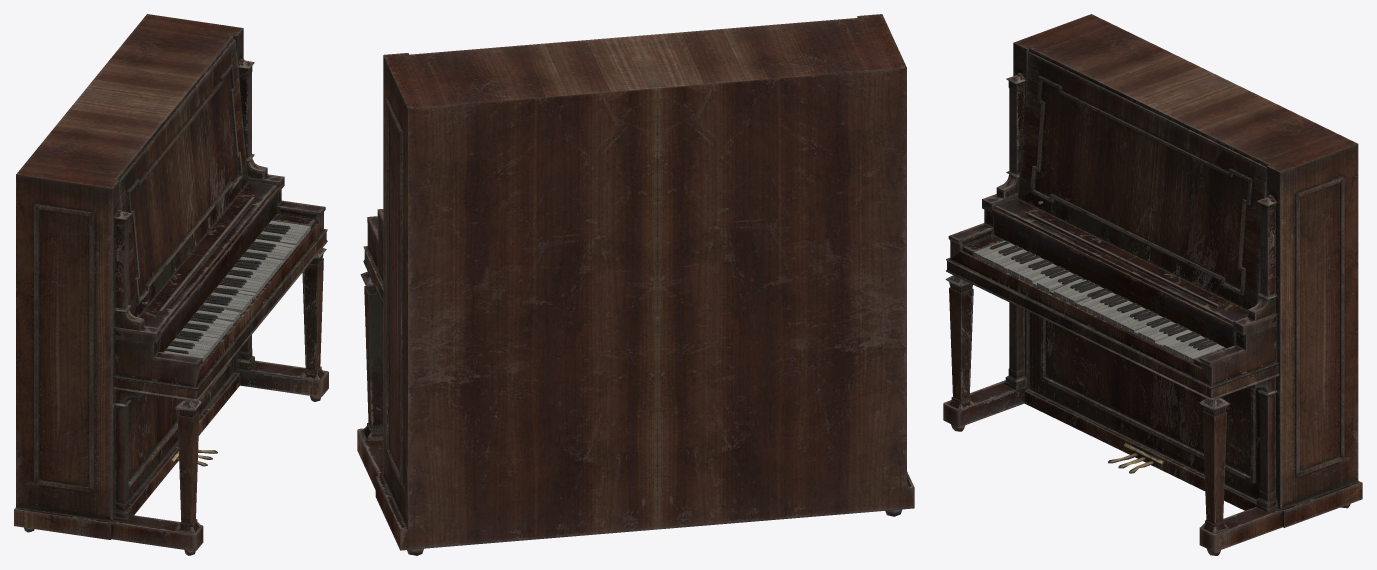
3 views of the same model, side by side, from view 1: azimuth 30°, elevation 25°; view 2: azimuth 150°, elevation 25°; view 3: azimuth 270°, elevation 25° (orthographic). The views are drawn at different scales.
Parts seen in each view (by area): view 1: piano_low; view 2: piano_low; view 3: piano_low.
Boxes of the visible parts, <box> form: piano_low: <box>14,14,328,555</box>; piano_low: <box>357,14,914,555</box>; piano_low: <box>943,14,1362,555</box>.
Size of the model in its own units: 2.05 by 1.86 by 1.95.
1 material, 1 textured.
